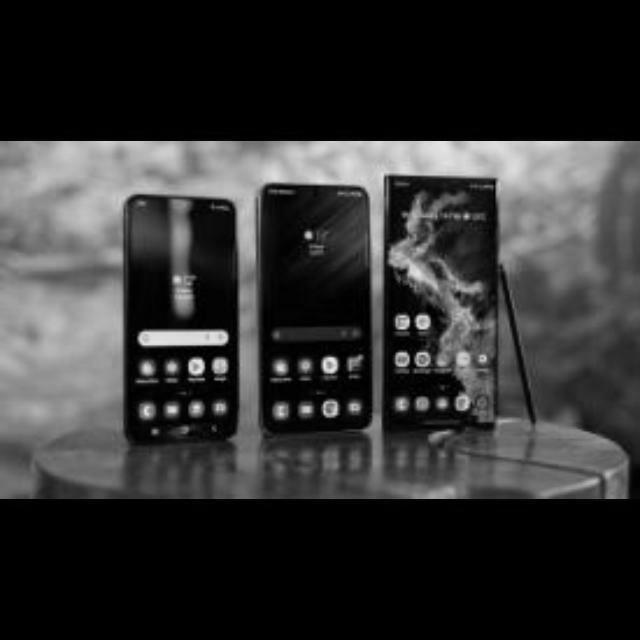fake: (378, 165, 516, 443), (113, 183, 244, 447), (250, 171, 378, 441)
